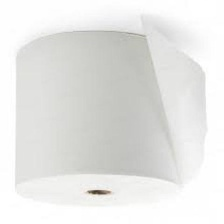tissue: (10, 9, 212, 211)
